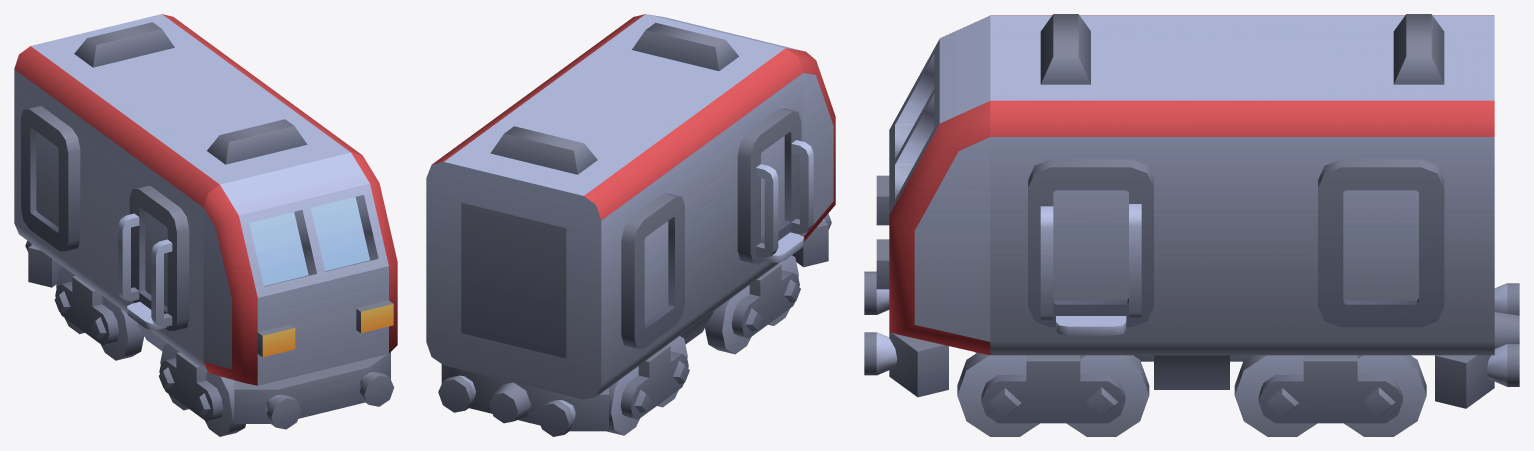
The model's file is train-electric-subway-a.glb.
3 renders of one model, left to right at view 1: azimuth 30°, elevation 25°; view 2: azimuth 150°, elevation 25°; view 3: azimuth 270°, elevation 25°, orthographic. The views are drawn at different scales.
Parts seen in each view (by area): view 1: train-electric-subway-a; view 2: train-electric-subway-a; view 3: train-electric-subway-a.
Part boxes in pixels (x1,y1,x2,y2): train-electric-subway-a: (14,14,397,436); train-electric-subway-a: (426,14,835,436); train-electric-subway-a: (864,14,1519,436).
Bounding box in the file's own units: 1.35 × 1.57 × 2.6.
1 material, 1 textured.
